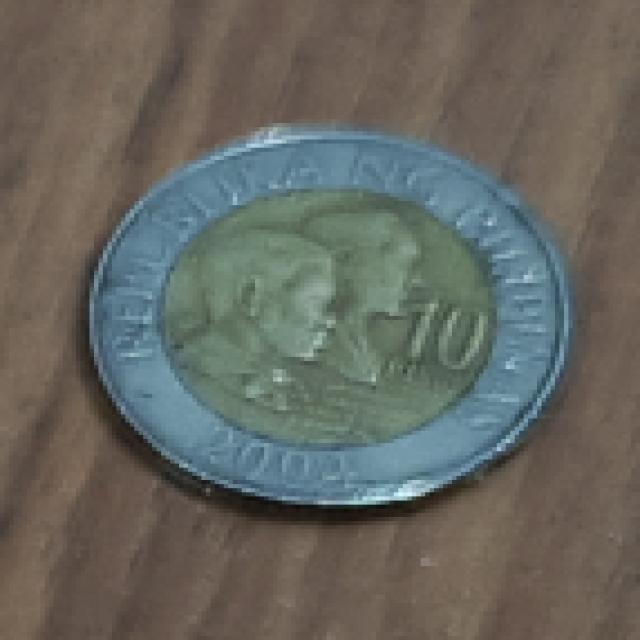10_peso: (90, 127, 564, 496)
